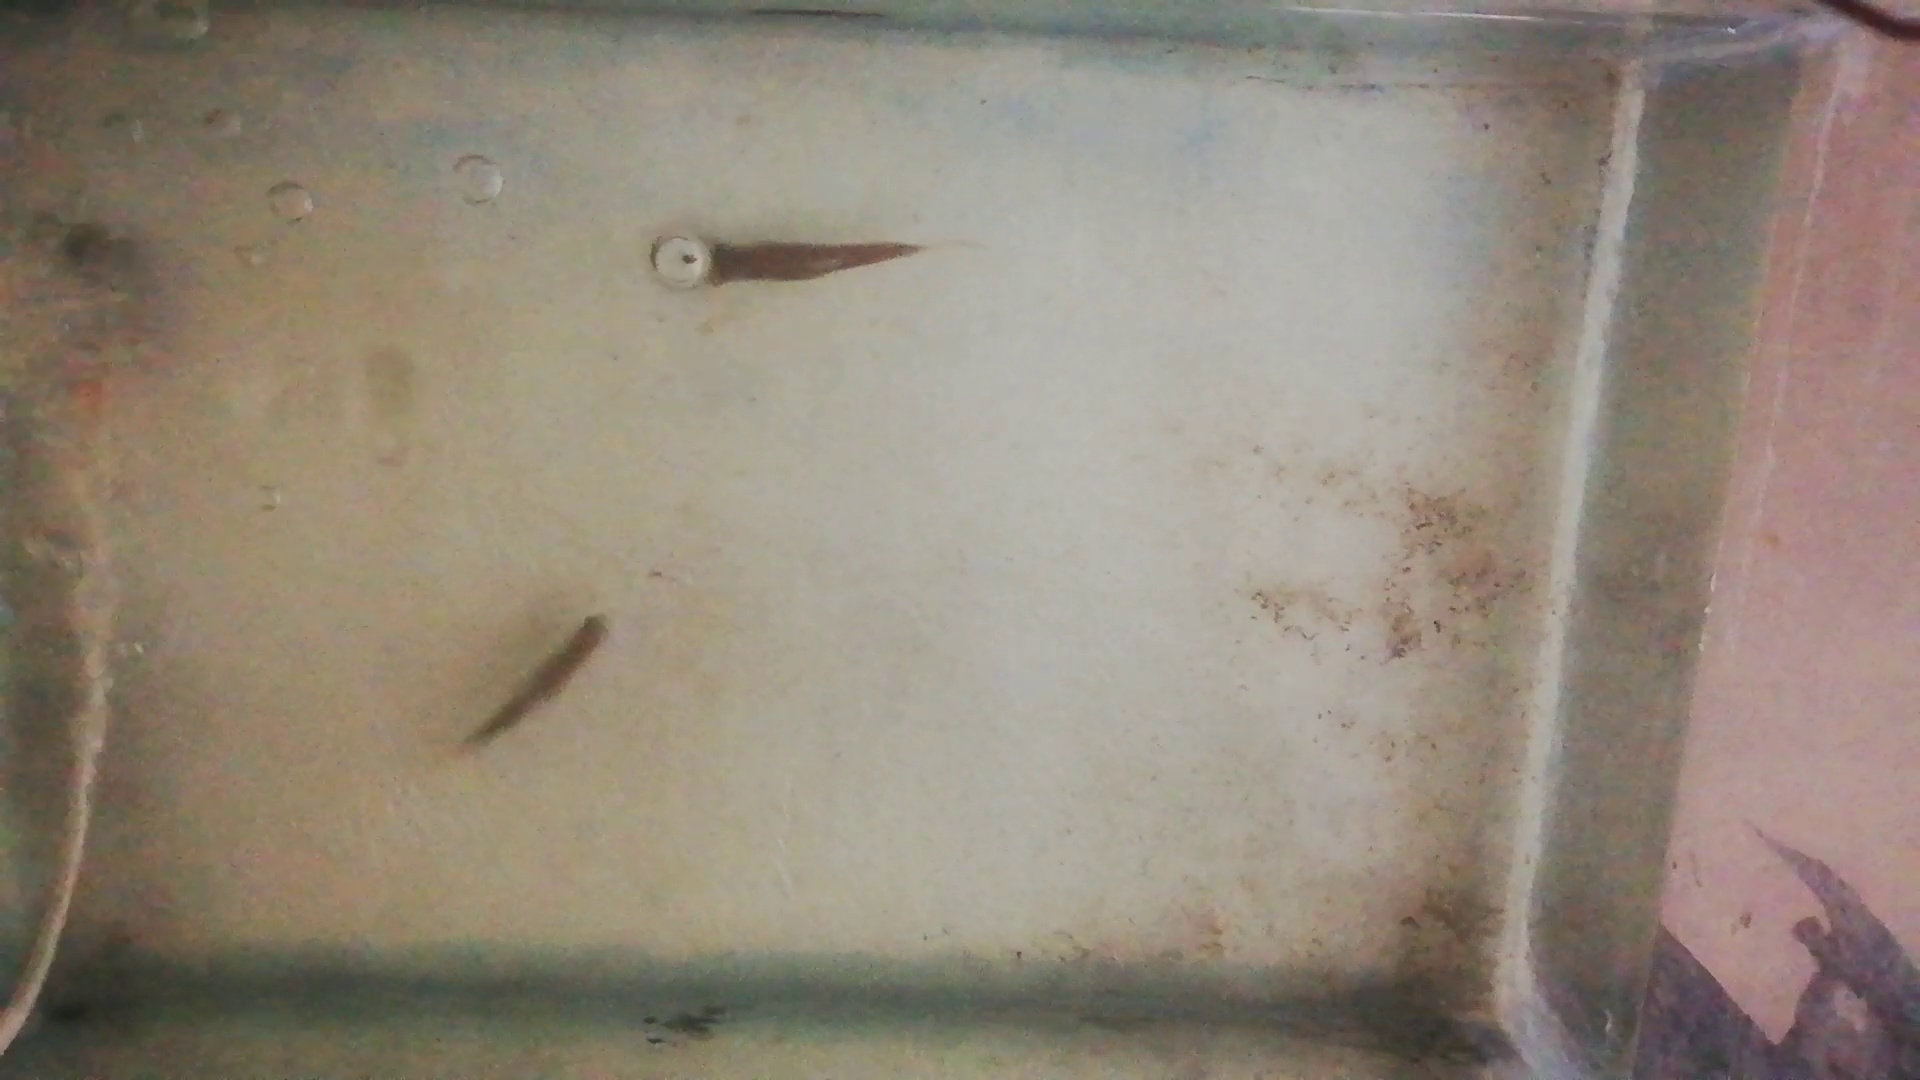fish: (462, 613, 615, 742), (655, 233, 920, 285)
